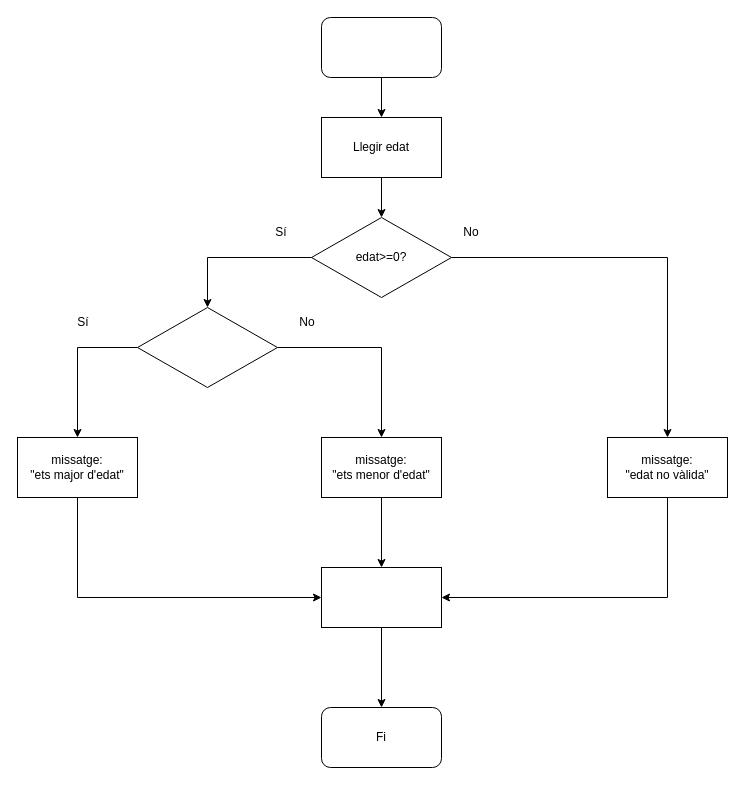
Image size: 745x785. Some labels were removed from this diagram. Each missing label, with the box of its shape:
edat>=18?: (136, 306, 278, 388)
Imprimir missatge: (320, 566, 442, 628)
Inici: (320, 16, 442, 78)
